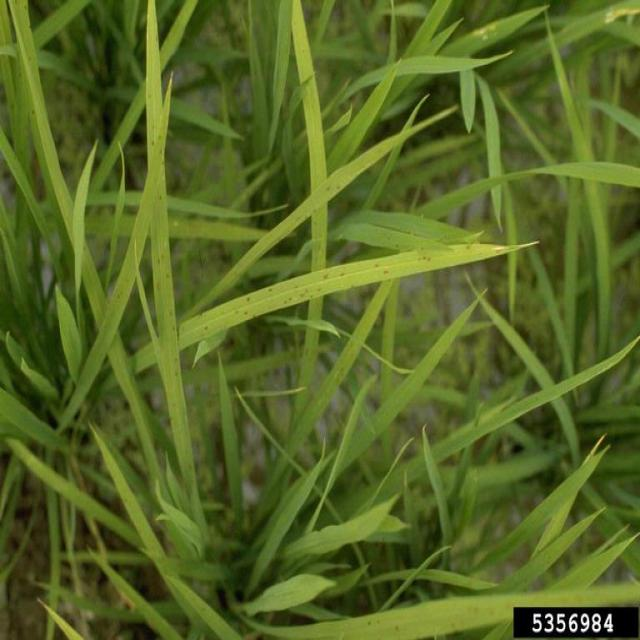Brown spot: (491, 241, 514, 257), (418, 253, 436, 268), (381, 268, 392, 278), (202, 324, 210, 337), (391, 623, 402, 632), (173, 351, 180, 365), (372, 260, 383, 268), (280, 296, 288, 306), (155, 280, 161, 292), (292, 281, 300, 290), (464, 242, 473, 250), (449, 620, 456, 630), (172, 324, 178, 335), (234, 306, 240, 317), (170, 307, 175, 320), (338, 270, 346, 278), (155, 31, 159, 46), (149, 138, 154, 150), (158, 193, 164, 203), (174, 372, 180, 382), (377, 615, 382, 627), (266, 286, 274, 293), (308, 293, 316, 300), (419, 243, 427, 250), (387, 233, 392, 244), (321, 272, 330, 278), (313, 217, 318, 227), (150, 125, 157, 132), (156, 259, 162, 267), (160, 252, 168, 258), (165, 274, 171, 282), (243, 309, 249, 317), (366, 619, 371, 628), (148, 91, 152, 102), (245, 297, 252, 303), (160, 160, 164, 168), (253, 312, 257, 320), (290, 295, 294, 303), (300, 290, 304, 298), (326, 185, 330, 193), (336, 184, 340, 192), (157, 134, 162, 140), (317, 288, 322, 294), (397, 242, 402, 248), (305, 287, 310, 291), (159, 148, 162, 154)
